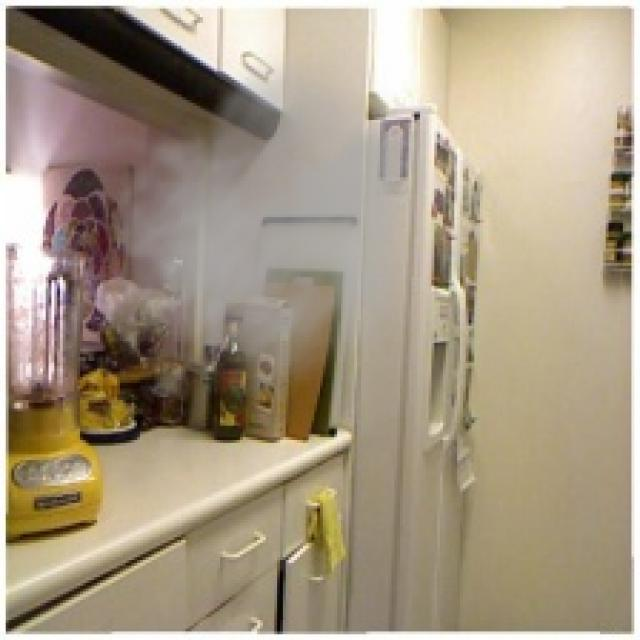Smoke: (74, 39, 426, 414)
